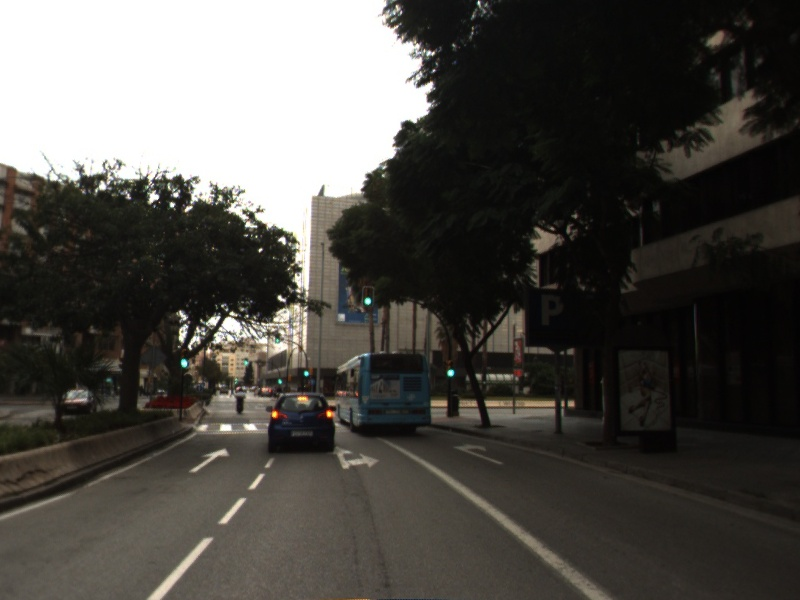RIGHT: (451, 441, 507, 467)
STRAIGHT: (187, 446, 232, 475)
STRAIGHT_RIGHT: (325, 445, 382, 471)
